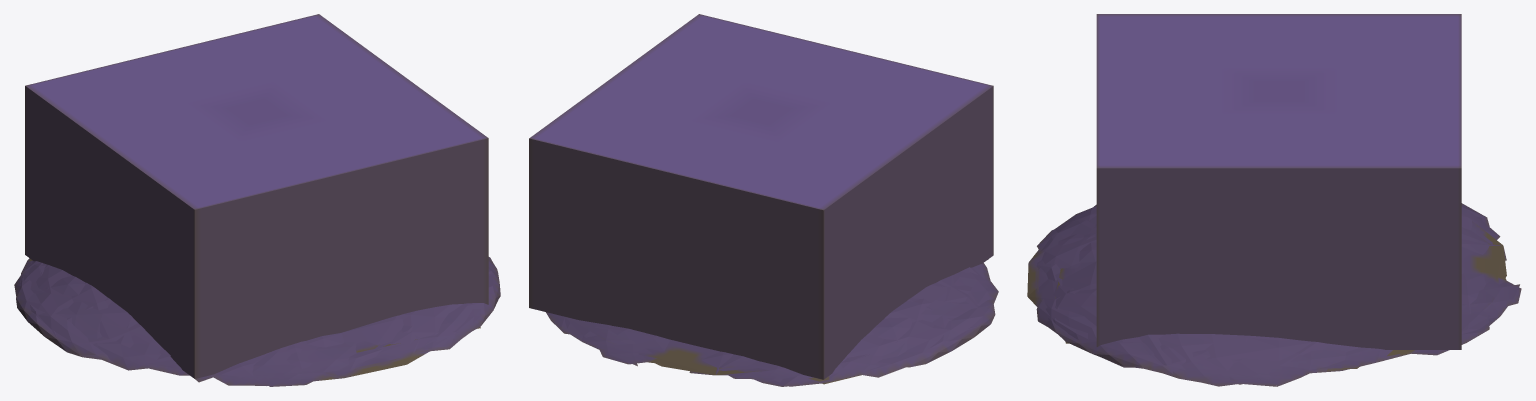
File: SF_INCL_EXOTIC_HOPPER_CUBE_V1.glb
3 renders of one model, left to right at view 1: azimuth 30°, elevation 25°; view 2: azimuth 150°, elevation 25°; view 3: azimuth 270°, elevation 25°, orthographic. The views are drawn at different scales.
Parts seen in each view (by area): view 1: LOD0_SF_INCL_EXOTIC_HOPPER_CUBE_V1, LOD1_SF_INCL_EXOTIC_HOPPER_CUBE_V1; view 2: LOD0_SF_INCL_EXOTIC_HOPPER_CUBE_V1, LOD1_SF_INCL_EXOTIC_HOPPER_CUBE_V1, LOD2_SF_INCL_EXOTIC_HOPPER_CUBE_V1; view 3: LOD0_SF_INCL_EXOTIC_HOPPER_CUBE_V1, LOD1_SF_INCL_EXOTIC_HOPPER_CUBE_V1, LOD2_SF_INCL_EXOTIC_HOPPER_CUBE_V1.
Boxes of the visible parts, <box> form: LOD0_SF_INCL_EXOTIC_HOPPER_CUBE_V1: <box>14,14,500,386</box>; LOD1_SF_INCL_EXOTIC_HOPPER_CUBE_V1: <box>29,259,500,385</box>; LOD0_SF_INCL_EXOTIC_HOPPER_CUBE_V1: <box>529,14,998,386</box>; LOD1_SF_INCL_EXOTIC_HOPPER_CUBE_V1: <box>566,267,977,384</box>; LOD2_SF_INCL_EXOTIC_HOPPER_CUBE_V1: <box>638,339,850,375</box>; LOD0_SF_INCL_EXOTIC_HOPPER_CUBE_V1: <box>1029,14,1521,386</box>; LOD1_SF_INCL_EXOTIC_HOPPER_CUBE_V1: <box>1027,205,1506,384</box>; LOD2_SF_INCL_EXOTIC_HOPPER_CUBE_V1: <box>1055,242,1503,356</box>.
Size of the model in its own units: 1.02 by 0.4099 by 0.9752.
Materials: 1 (1 with a texture image).
